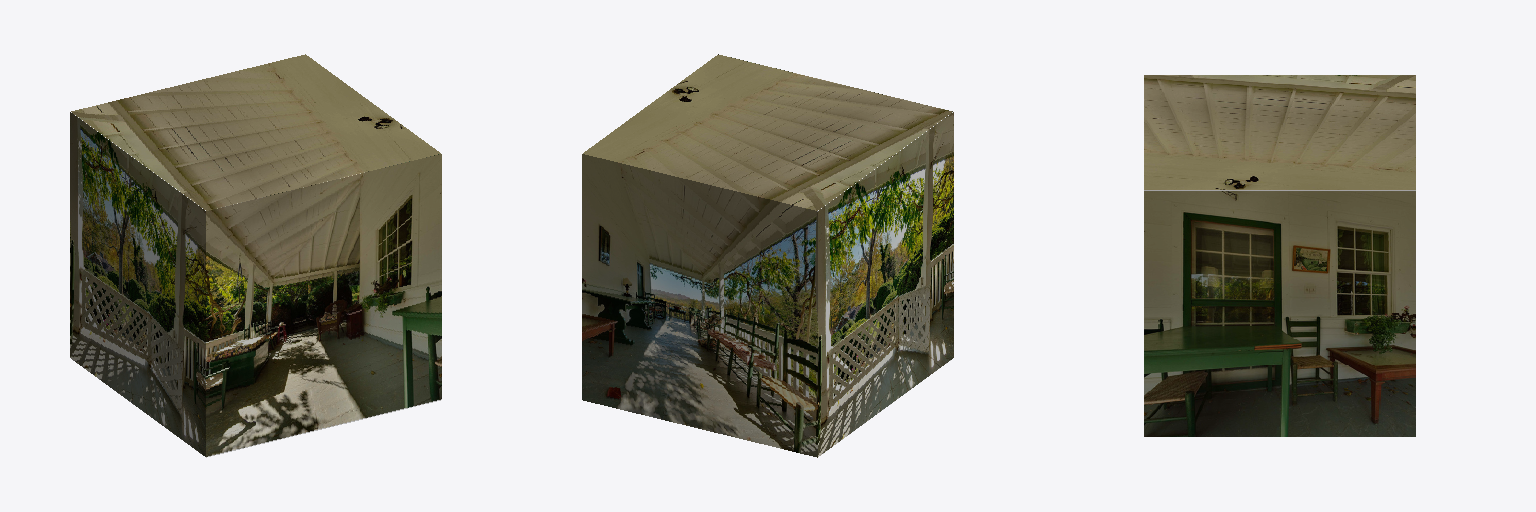
3 views of the same model, side by side, from view 1: azimuth 30°, elevation 25°; view 2: azimuth 150°, elevation 25°; view 3: azimuth 270°, elevation 25° (orthographic).
Parts seen in each view (by area): view 1: Cube; view 2: Cube; view 3: Cube.
Part boxes in pixels (left/top/right/bottom): Cube: left=70, top=54, right=441, bottom=457; Cube: left=582, top=54, right=953, bottom=457; Cube: left=1144, top=75, right=1415, bottom=436.
Size of the model in its own units: 10 by 10 by 10.
1 materials, 1 textured.